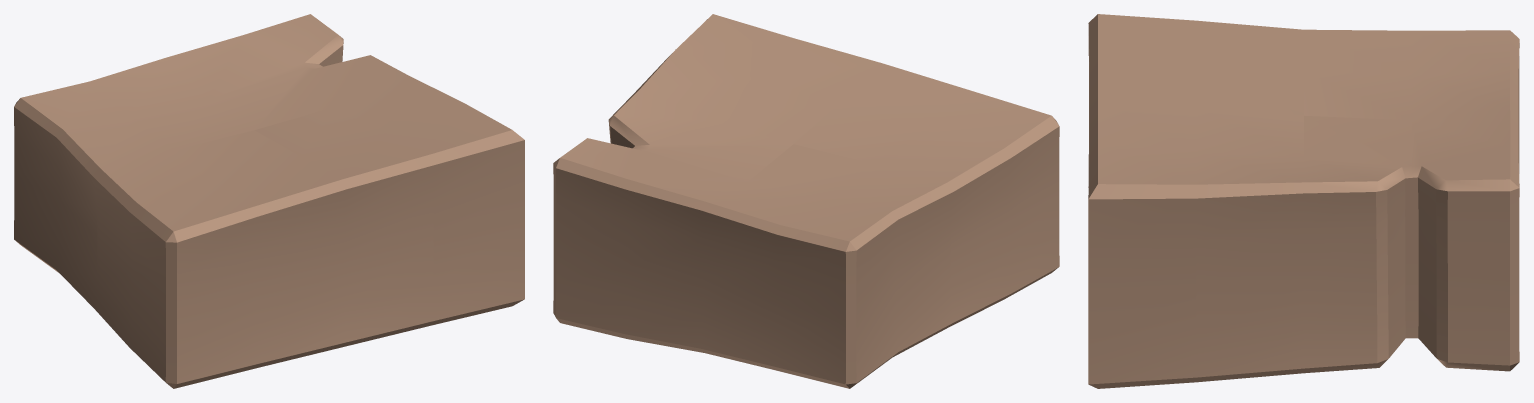
File: Square_1.fbx
3 renders of one model, left to right at view 1: azimuth 30°, elevation 25°; view 2: azimuth 150°, elevation 25°; view 3: azimuth 270°, elevation 25°, orthographic. The views are drawn at different scales.
Parts seen in each view (by area): view 1: square; view 2: square; view 3: square.
Part boxes in pixels (x1,y1,x2,y2): square: (14, 14, 524, 388); square: (553, 14, 1059, 388); square: (1088, 14, 1519, 388).
Bounding box in the file's own units: 1.96 × 0.9287 × 1.77.
